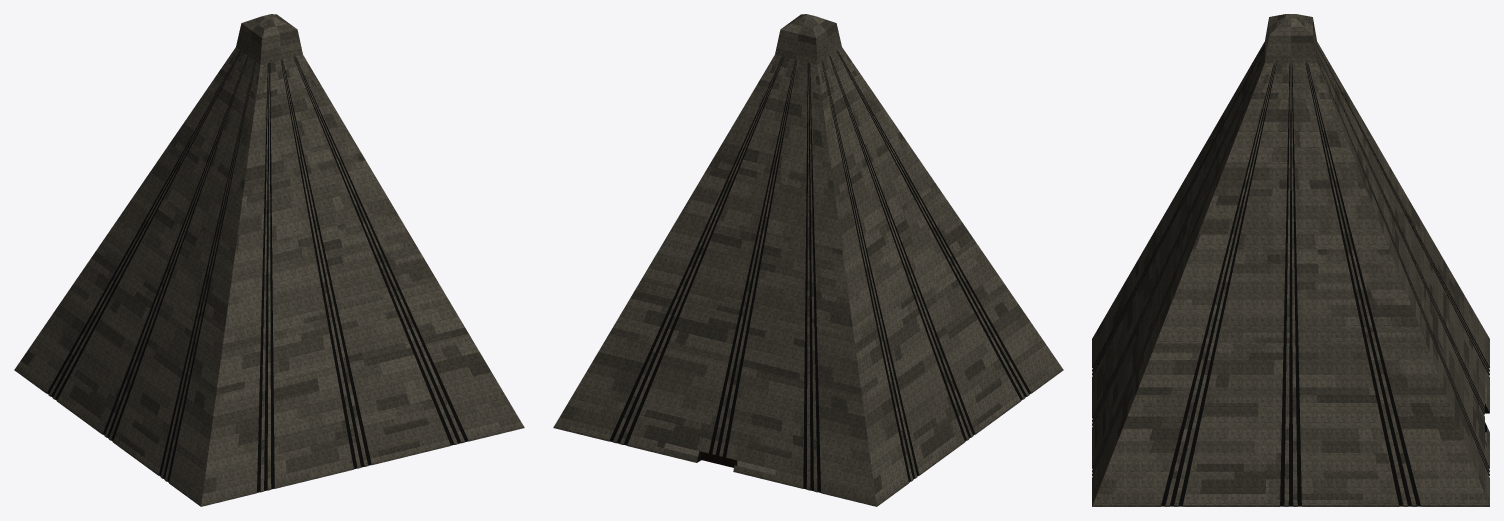
Rendered from wallace-low.glb.
The picture shows the model from 3 angles, left to right: view 1: azimuth 30°, elevation 25°; view 2: azimuth 150°, elevation 25°; view 3: azimuth 270°, elevation 25°; orthographic projection. The views are drawn at different scales.
Visible parts, largest first — view 1: wallace; view 2: wallace; view 3: wallace.
Part boxes in pixels (x1,y1,x2,y2): wallace: [14, 14, 524, 506]; wallace: [553, 14, 1063, 506]; wallace: [1092, 14, 1489, 506].
Bounding box in the file's own units: 3200 × 3610 × 3200.
2 materials, 1 textured.
